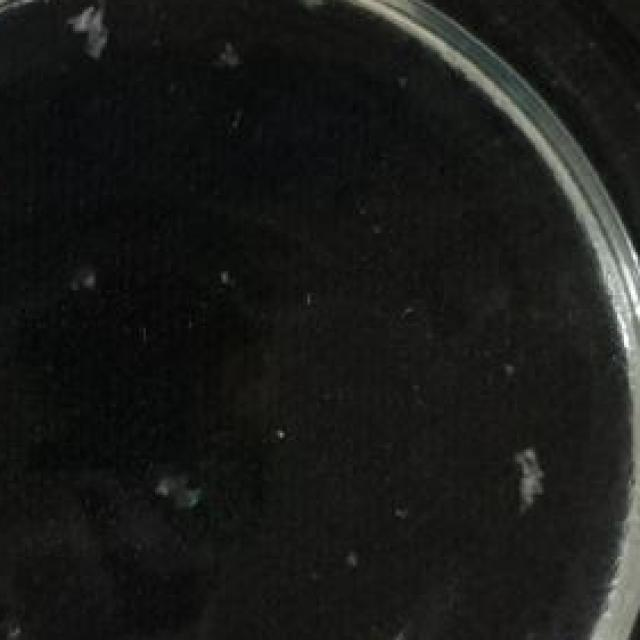Microplastic: (134, 447, 234, 547), (503, 412, 565, 526), (78, 0, 134, 67), (343, 618, 437, 640)
